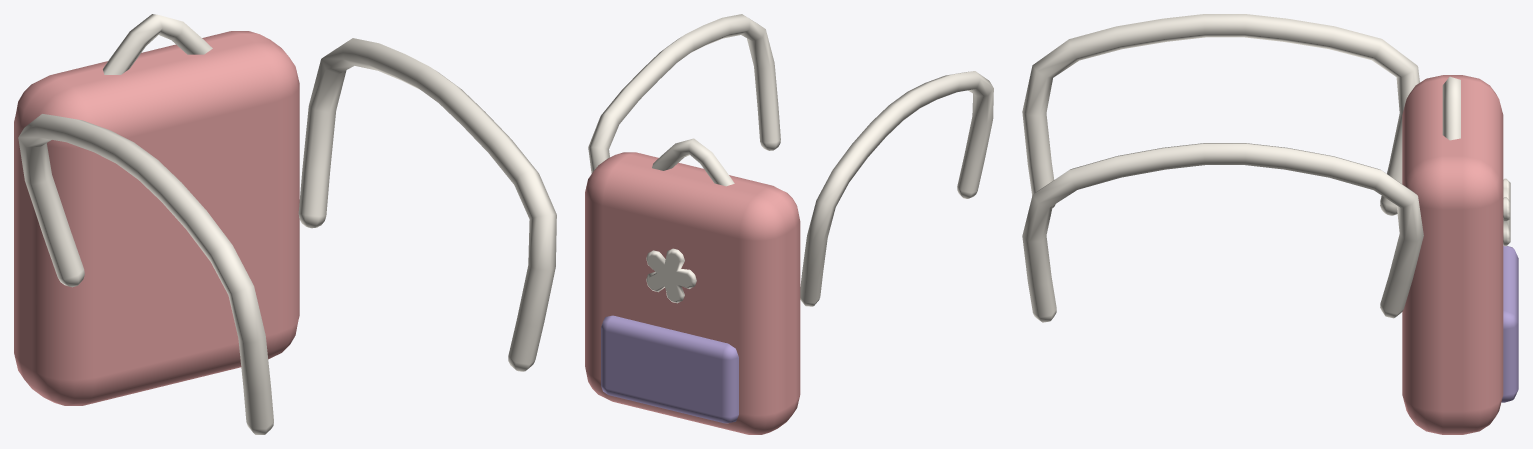
The model's file is dreamy_backpack.glb.
3 views of the same model, side by side, from view 1: azimuth 30°, elevation 25°; view 2: azimuth 150°, elevation 25°; view 3: azimuth 270°, elevation 25° (orthographic). The views are drawn at different scales.
Visible parts, largest first — view 1: dreamy_backpack_Body; view 2: dreamy_backpack_Body; view 3: dreamy_backpack_Body.
Boxes of the visible parts, x1,y1,x2,y2 form: dreamy_backpack_Body: [14, 14, 556, 434]; dreamy_backpack_Body: [585, 14, 993, 434]; dreamy_backpack_Body: [1022, 14, 1518, 434].
Bounding box in the file's own units: 0.327 × 0.3445 × 0.4902.
